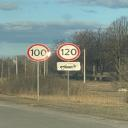speed_limit_100: (25, 42, 53, 62)
speed_limit_120: (56, 42, 82, 61)
